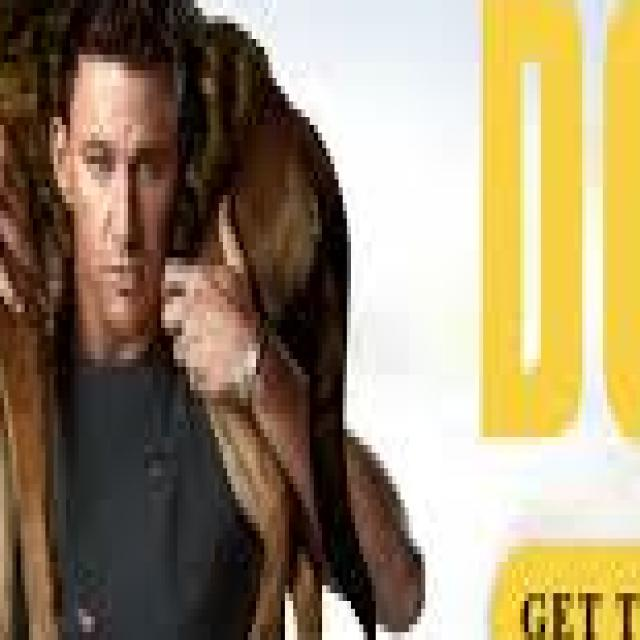dog: (0, 0, 429, 640)
